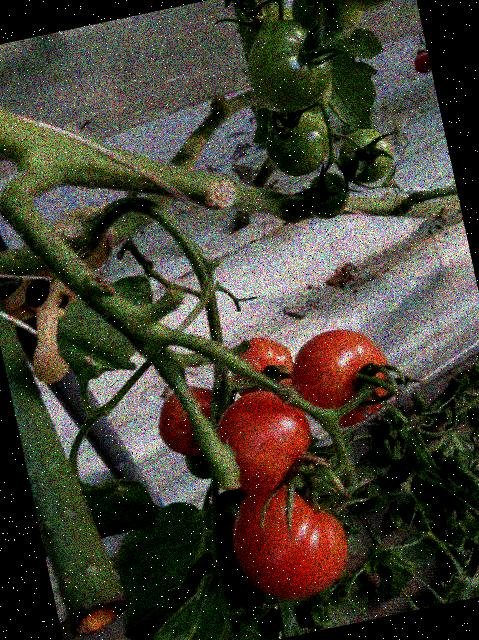l_fully_ripened: (220, 472, 356, 612), (281, 319, 400, 436), (208, 381, 321, 501), (149, 379, 227, 464), (224, 330, 300, 404)
l_green: (237, 10, 339, 120), (259, 106, 336, 182), (333, 123, 399, 189), (289, 0, 369, 50), (236, 2, 300, 59), (299, 168, 354, 223), (330, 0, 417, 18), (183, 450, 218, 483)
